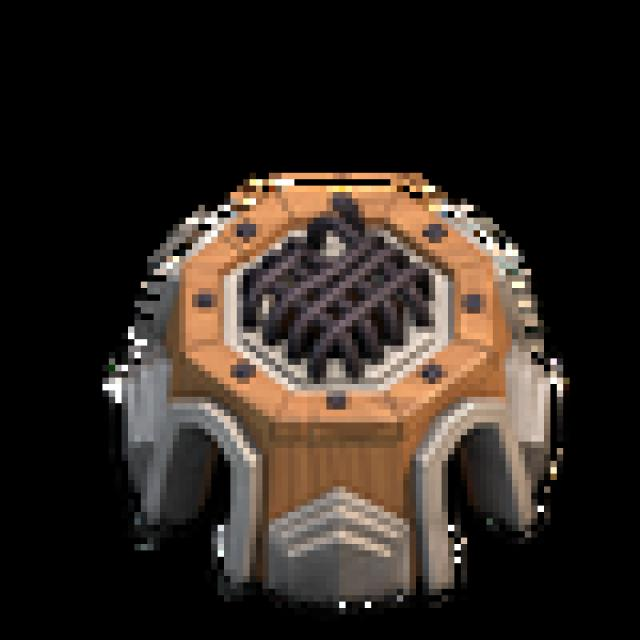laboratory: (101, 176, 585, 628)
